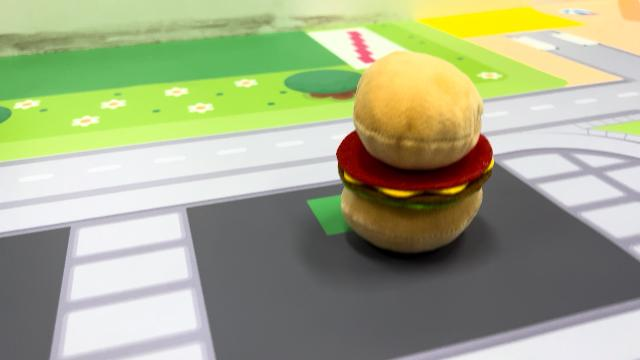burger: (332, 48, 498, 256)
